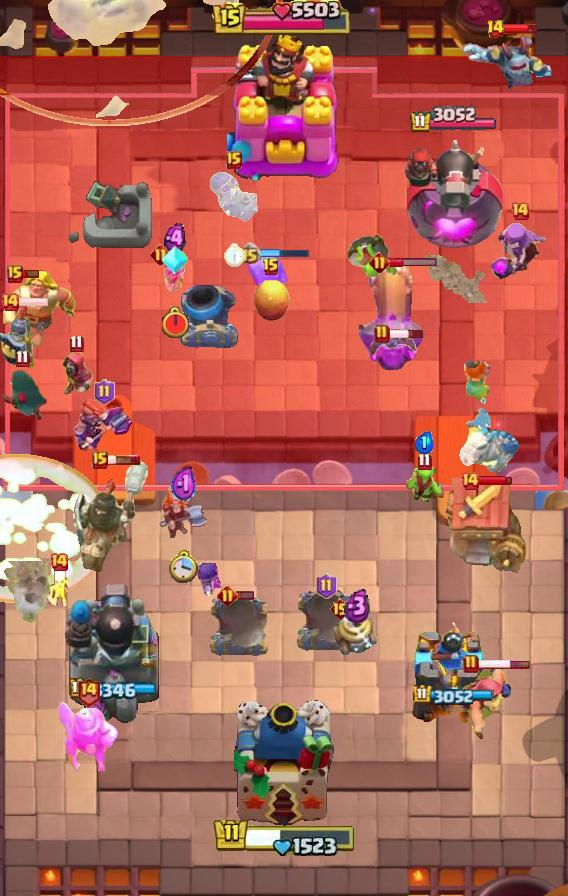bandit: (0, 369, 48, 425)
bar: (258, 247, 310, 259), (477, 659, 531, 670), (387, 257, 438, 268), (388, 328, 425, 340), (12, 296, 49, 308), (477, 475, 513, 487), (105, 454, 141, 466), (502, 23, 538, 35), (20, 268, 40, 279), (236, 590, 255, 601)
bar-level: (76, 676, 101, 707), (329, 597, 352, 621), (316, 573, 337, 599), (94, 379, 115, 405), (238, 242, 261, 265), (217, 585, 238, 606), (369, 252, 390, 273), (150, 244, 171, 265), (49, 552, 69, 572), (460, 471, 480, 491), (0, 292, 20, 312), (510, 201, 530, 221), (486, 19, 505, 39), (262, 257, 280, 277), (463, 654, 479, 674), (374, 324, 390, 344), (92, 451, 108, 469), (7, 265, 23, 283), (226, 151, 242, 169), (417, 452, 432, 471), (15, 349, 30, 368), (69, 334, 84, 353)
bat: (367, 334, 419, 358)
bomber-evolution: (208, 171, 260, 227)
cannoneer-tower: (63, 579, 165, 731), (400, 132, 507, 256)
clock: (169, 548, 200, 583), (160, 306, 191, 340), (223, 243, 245, 267)
dirt: (0, 561, 54, 626), (425, 255, 487, 303)
elixir: (171, 465, 197, 505), (344, 588, 371, 624), (164, 223, 186, 254), (414, 431, 434, 454)
goblin: (403, 465, 445, 503)
goblin-ball: (345, 233, 399, 281)
guard: (0, 304, 36, 372)
ice-spirit-evolution: (244, 250, 290, 292)
ice-spirit-evolution-symbol: (160, 245, 190, 275)
king-tower: (227, 29, 341, 181), (234, 700, 334, 826)
king-tower-bar: (212, 814, 356, 856), (213, 0, 355, 38)
mega-minion: (460, 33, 556, 103)
miner: (56, 698, 120, 776)
mortar: (207, 593, 271, 659), (294, 588, 358, 654), (180, 284, 240, 348)
mother-witch: (488, 221, 552, 283)
phoenix-egg: (252, 275, 290, 323)
queen-tower: (411, 619, 495, 731)
skeleton: (42, 566, 76, 608)
skeleton-evolution: (195, 563, 224, 599), (161, 258, 189, 294)
tower-bar: (409, 106, 498, 134), (70, 678, 159, 701), (413, 684, 494, 705)
valkyrie: (158, 487, 210, 539), (459, 355, 497, 407)
valkyrie-evolution: (72, 398, 136, 454)
wizard: (58, 350, 94, 398)
zappy: (334, 608, 380, 656)
